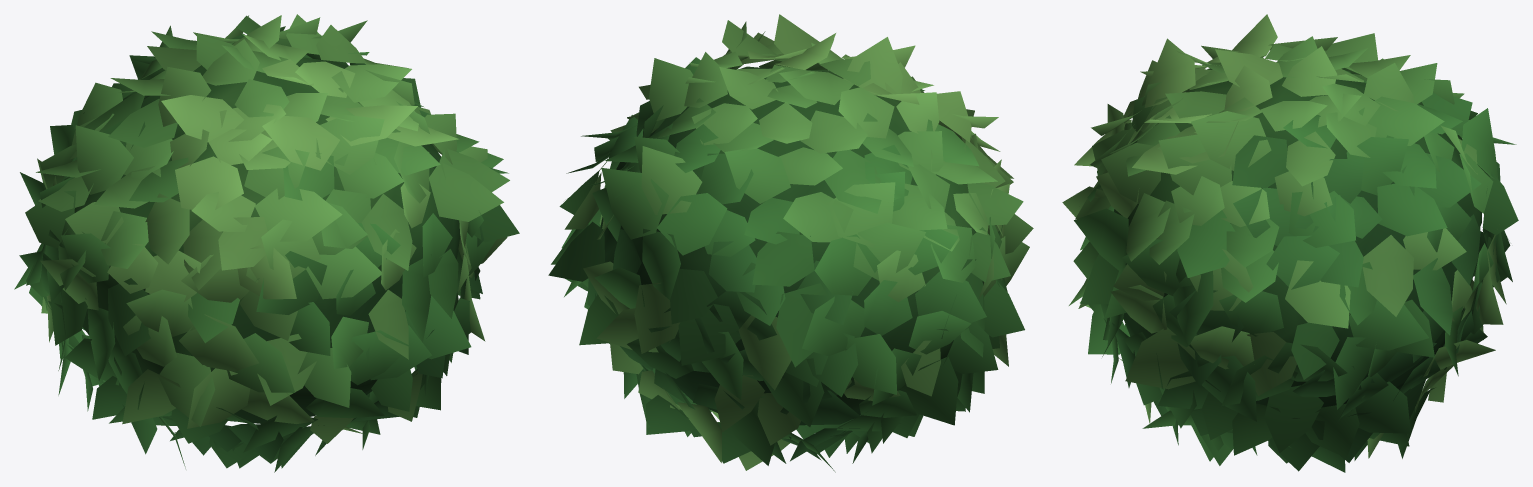
File: furn_dp_hedge_round.glb
3 renders of one model, left to right at view 1: azimuth 30°, elevation 25°; view 2: azimuth 150°, elevation 25°; view 3: azimuth 270°, elevation 25°, orthographic. The views are drawn at different scales.
Visible parts, largest first — view 1: furn_dp_hedge_round_main; view 2: furn_dp_hedge_round_main; view 3: furn_dp_hedge_round_main.
Boxes of the visible parts, box(x1,y1,x2,y2) form: furn_dp_hedge_round_main: box(14, 14, 519, 472); furn_dp_hedge_round_main: box(548, 14, 1033, 472); furn_dp_hedge_round_main: box(1062, 14, 1518, 472).
Bounding box in the file's own units: 0.9384 × 0.8482 × 0.8626.
